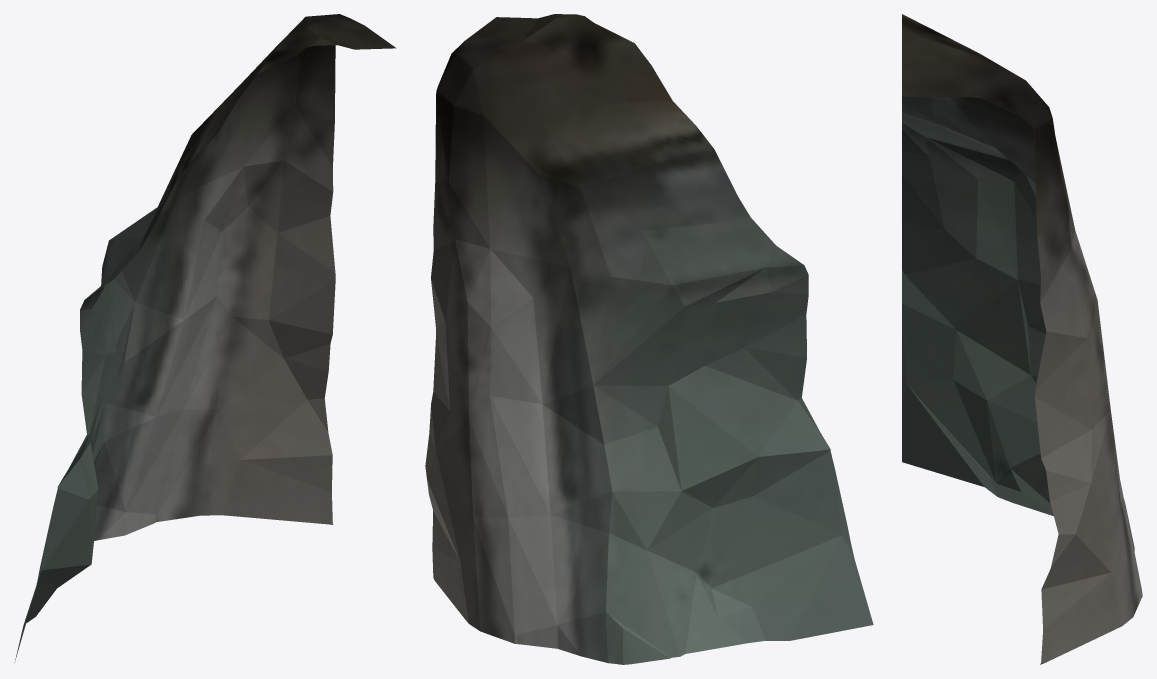
3 views of the same model, side by side, from view 1: azimuth 30°, elevation 25°; view 2: azimuth 150°, elevation 25°; view 3: azimuth 270°, elevation 25° (orthographic). The views are drawn at different scales.
Size of the model in its own units: 0.2539 by 0.3462 by 0.1274.
Materials: 1 (1 with a texture image).
